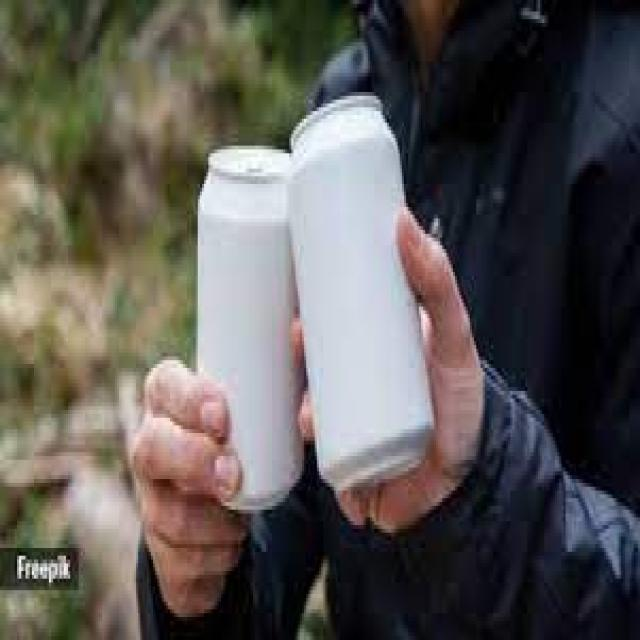Cans: (287, 80, 444, 494), (189, 126, 306, 514)
